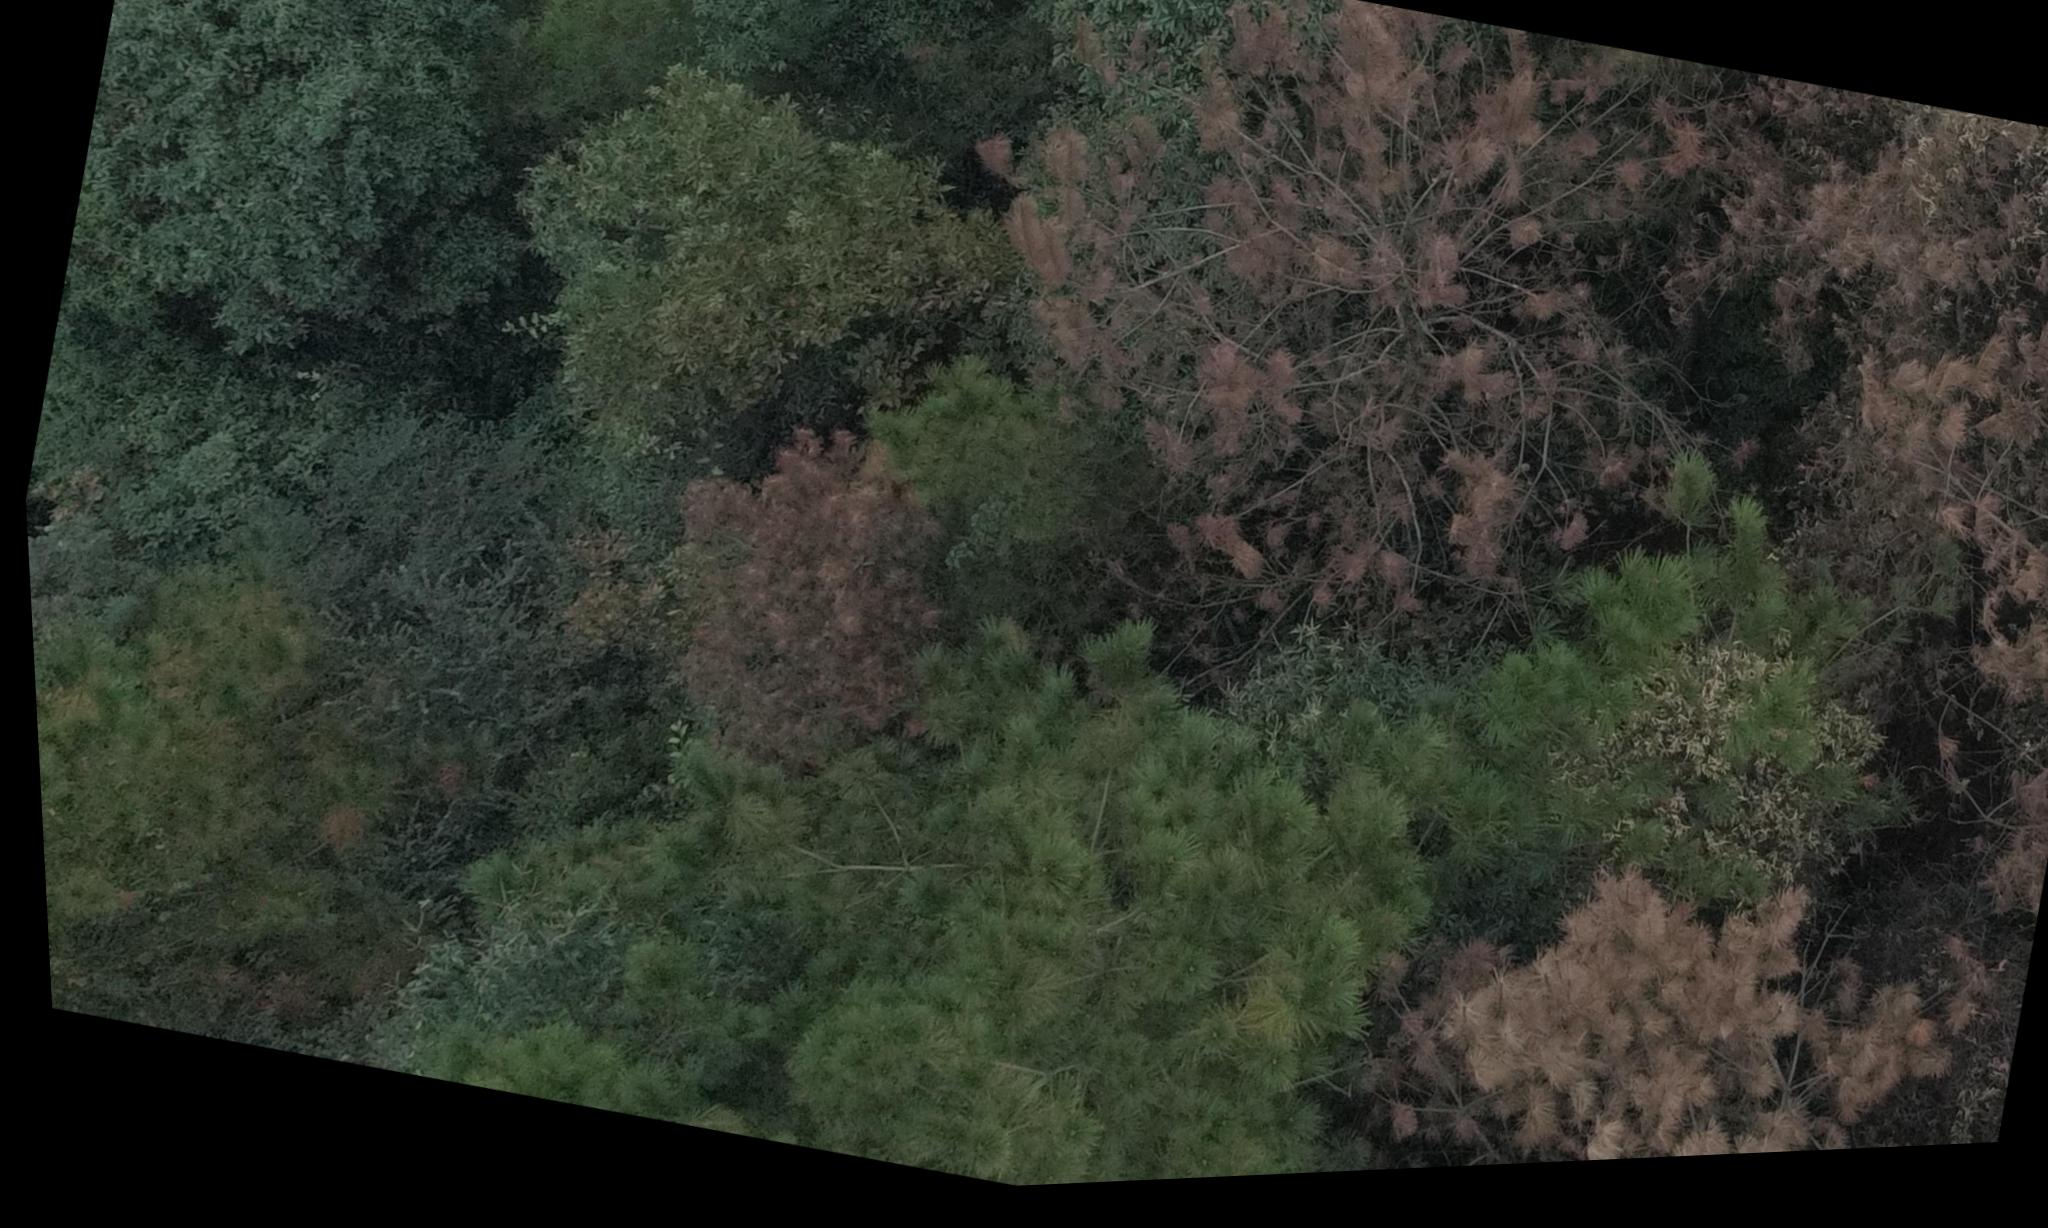heavy: (919, 0, 1760, 731), (1314, 851, 1994, 1184), (1683, 92, 2048, 658), (639, 415, 955, 784)
